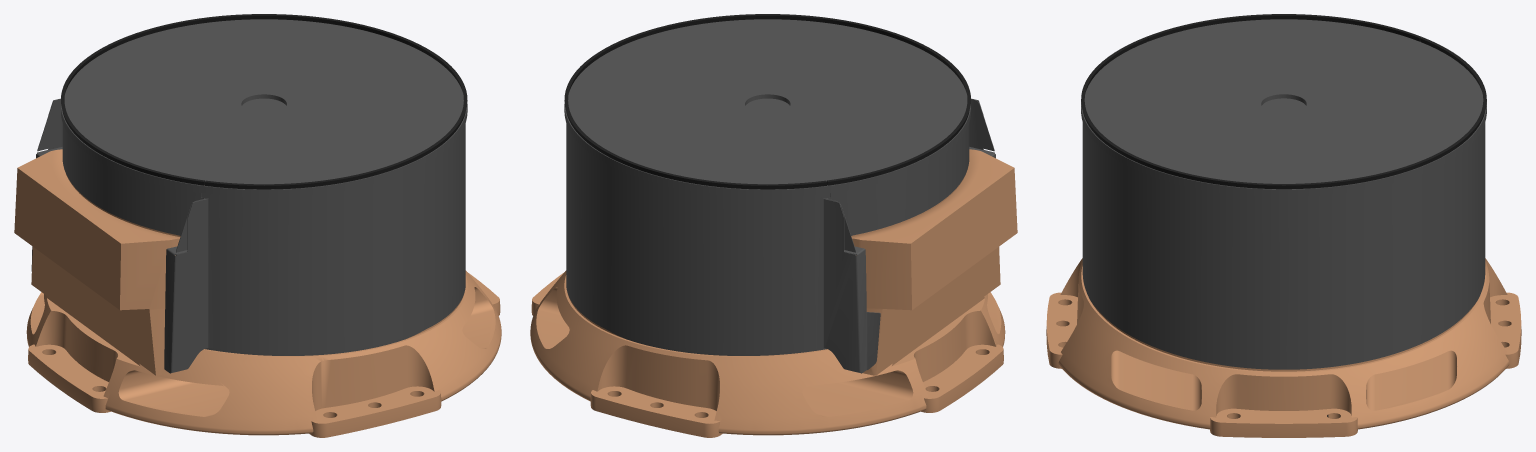
3 renders of one model, left to right at view 1: azimuth 30°, elevation 25°; view 2: azimuth 150°, elevation 25°; view 3: azimuth 270°, elevation 25°, orthographic.
Visible parts, largest first — view 1: link_00; view 2: link_00; view 3: link_00.
Part boxes in pixels (<box>): link_00: <box>14,14,501,437</box>; link_00: <box>530,14,1017,437</box>; link_00: <box>1046,14,1521,437</box>.
Size of the model in its own units: 1.04 by 1.04 by 0.576.
